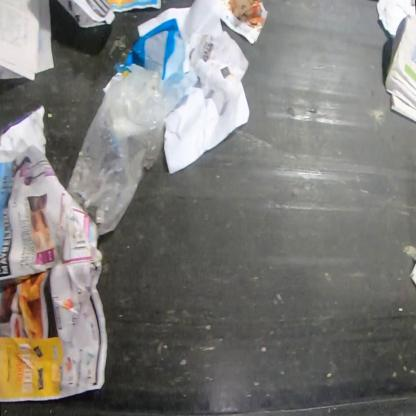soft_plastic: (68, 69, 164, 239), (112, 15, 200, 122)
